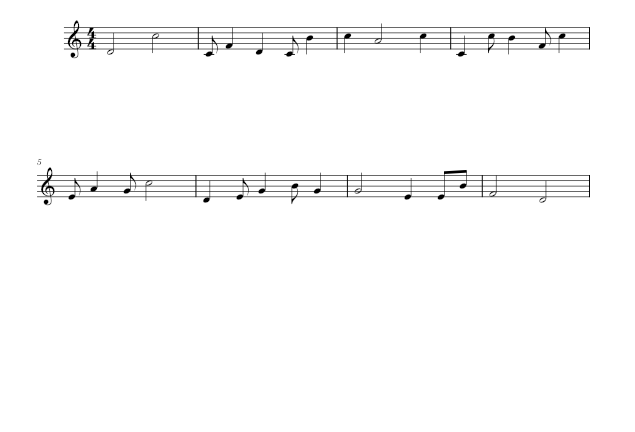Treble Clef: (63, 16, 84, 64), (38, 166, 59, 210)
